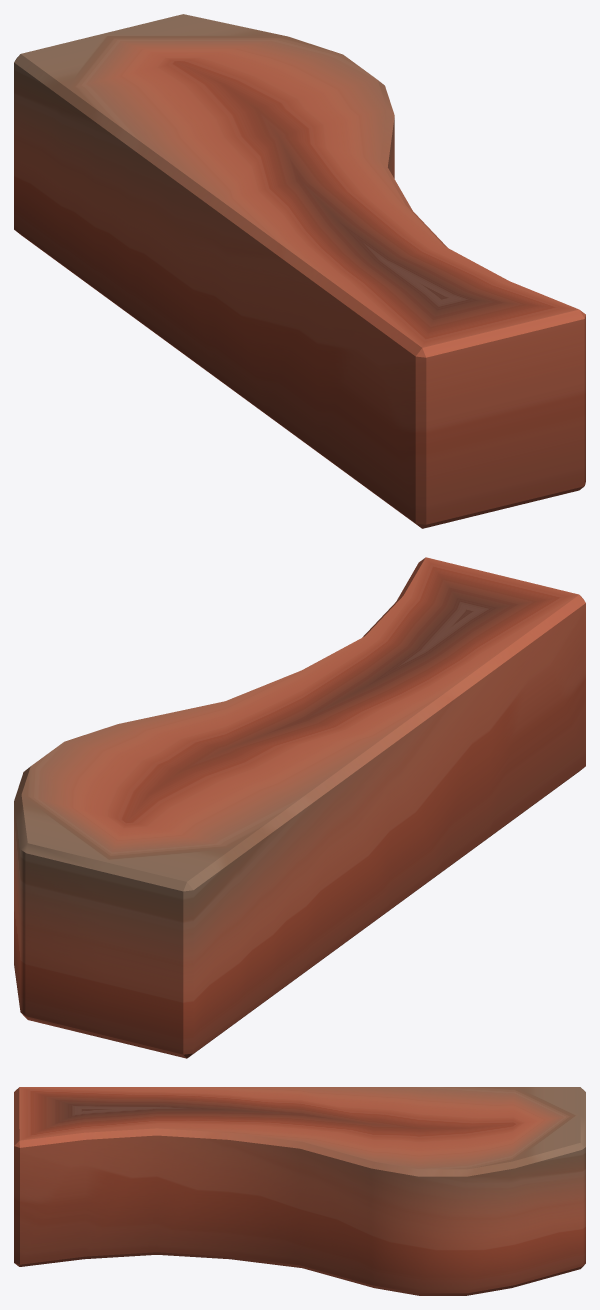
File: receptionDesk.fbx
3 renders of one model, top to bottom at view 1: azimuth 30°, elevation 25°; view 2: azimuth 150°, elevation 25°; view 3: azimuth 270°, elevation 25°, orthographic. The views are drawn at different scales.
Visible parts, largest first — view 1: pCube63; view 2: pCube63; view 3: pCube63.
Part boxes in pixels (x1,y1,x2,y2): pCube63: (14,14,585,528); pCube63: (14,557,585,1058); pCube63: (14,1087,585,1295).
Size of the model in its own units: 837 by 569 by 2332.
